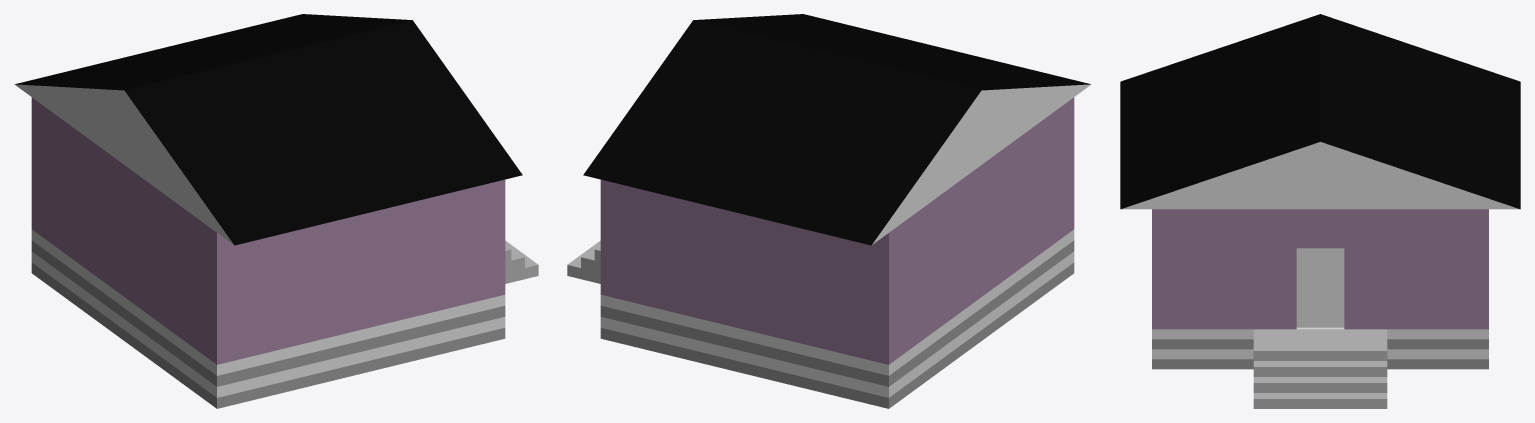
The model's file is house purple.fbx.
3 views of the same model, side by side, from view 1: azimuth 30°, elevation 25°; view 2: azimuth 150°, elevation 25°; view 3: azimuth 270°, elevation 25° (orthographic). The views are drawn at different scales.
Visible parts, largest first — view 1: House3; view 2: House3; view 3: House3.
Part boxes in pixels (box(x1,y1,x2,y2)): House3: box(14, 14, 538, 408); House3: box(567, 14, 1091, 408); House3: box(1120, 14, 1520, 408).
Size of the model in its own units: 594 by 377 by 601.
